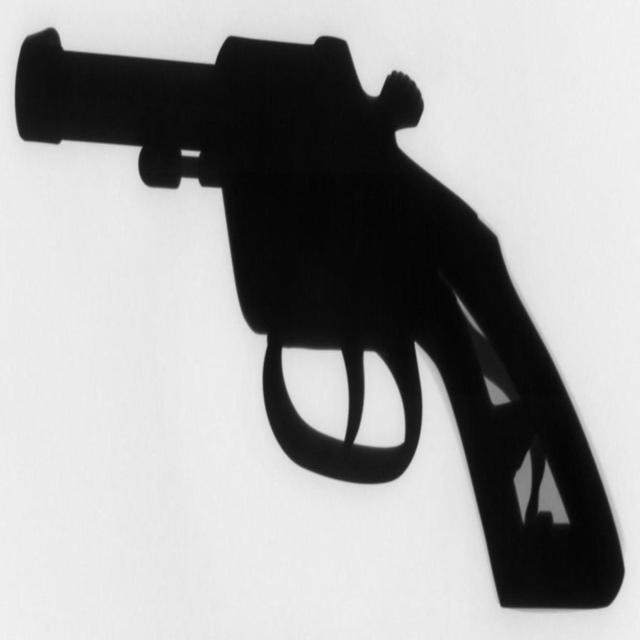gun: (9, 14, 628, 612)
